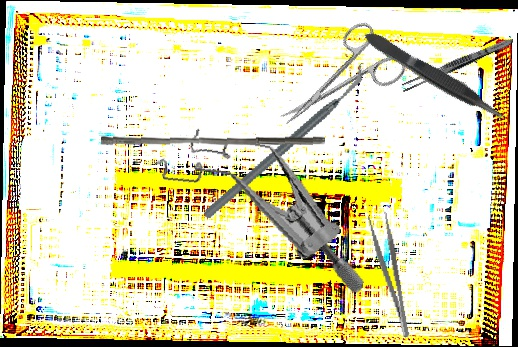Chopper: (174, 62, 395, 221)
Dressing Forceps: (399, 34, 516, 95), (366, 210, 413, 342)
Iris Scissors: (261, 14, 411, 148)
Pusher: (100, 128, 326, 153)
Speculum: (136, 117, 388, 298)
Tissue Forceps: (360, 24, 512, 130)
